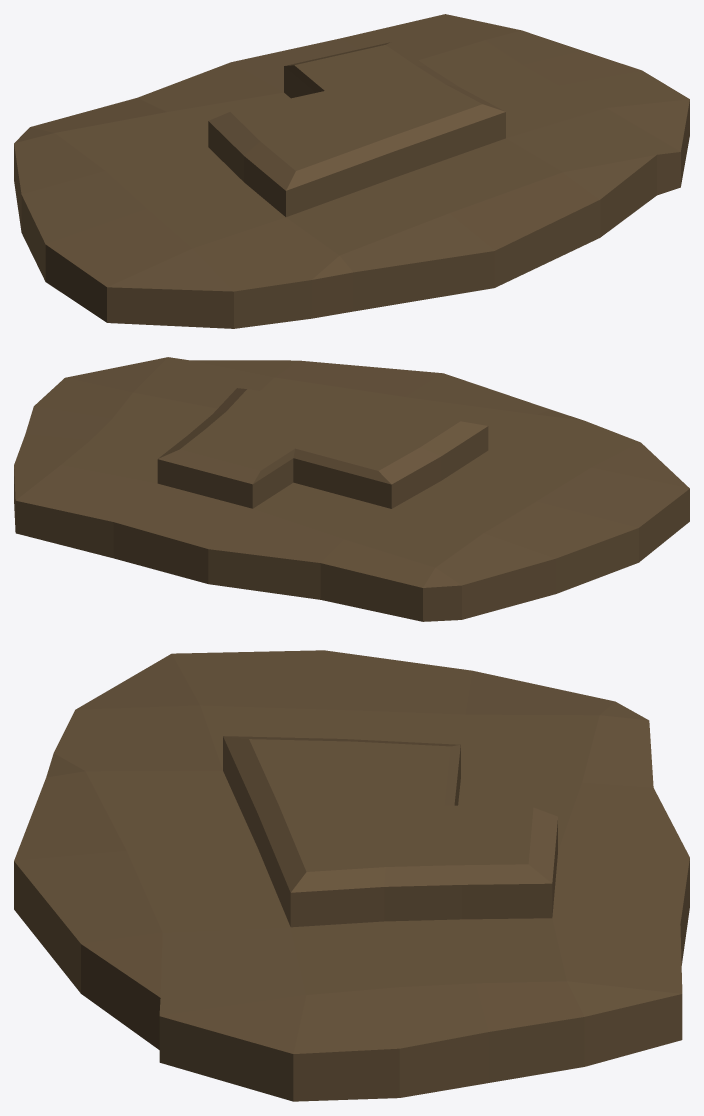
The model's file is RockPlate02.fbx.
The picture shows the model from 3 angles, top to bottom: view 1: azimuth 30°, elevation 25°; view 2: azimuth 150°, elevation 25°; view 3: azimuth 270°, elevation 25°; orthographic projection. The views are drawn at different scales.
Parts seen in each view (by area): view 1: Plane.002; view 2: Plane.002; view 3: Plane.002.
Part boxes in pixels (x1,y1,x2,y2): Plane.002: (14, 14, 689, 328); Plane.002: (14, 357, 689, 621); Plane.002: (14, 650, 689, 1101).
Bounding box in the file's own units: 860 × 109 × 610.
